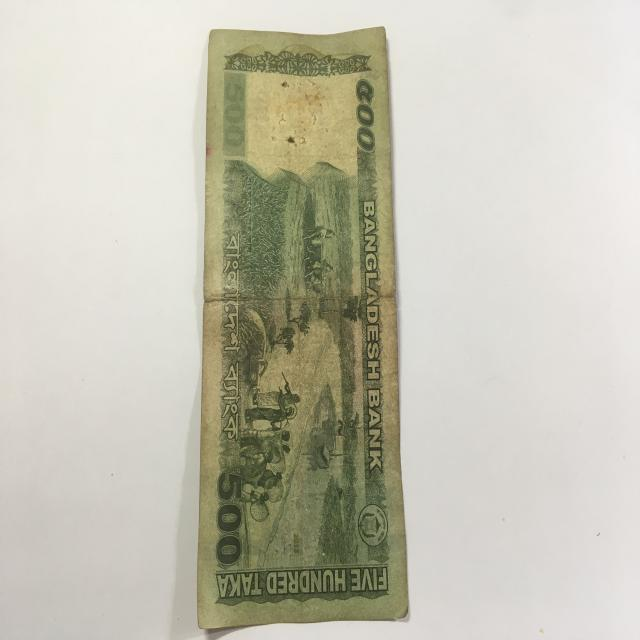Taka: (198, 21, 412, 632)
